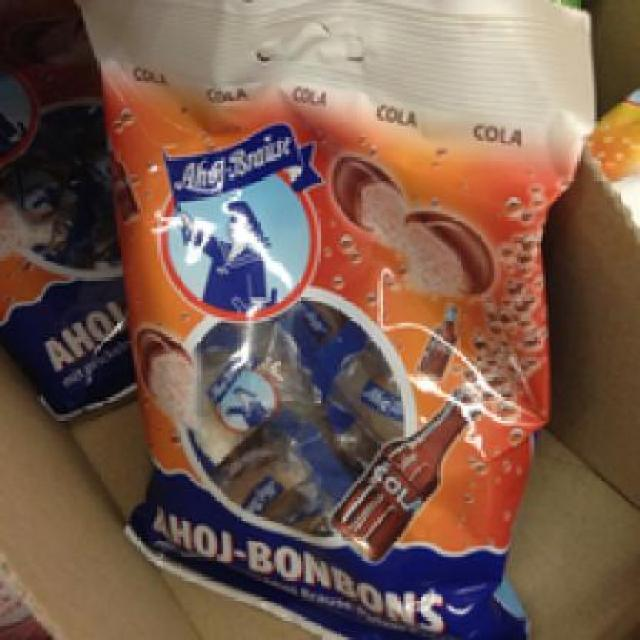Candy: (91, 0, 580, 626)
